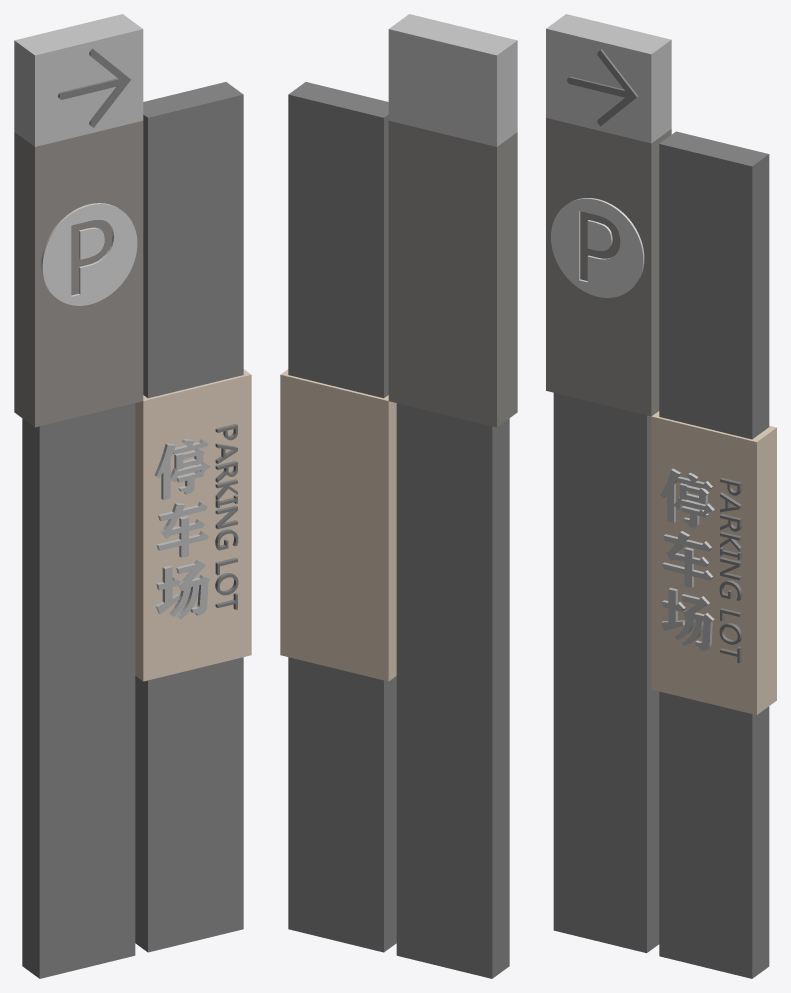
The model's file is 停车场.fbx.
3 renders of one model, left to right at view 1: azimuth 30°, elevation 25°; view 2: azimuth 150°, elevation 25°; view 3: azimuth 330°, elevation 25°, orthographic. The views are drawn at different scales.
Visible parts, largest first — view 1: Component126_001; view 2: Component126_001; view 3: Component126_001.
Boxes of the visible parts, x1,y1,x2,y2 form: Component126_001: [14, 14, 251, 978]; Component126_001: [280, 14, 517, 978]; Component126_001: [546, 14, 776, 978].
Size of the model in its own units: 167 by 682 by 30.33.
